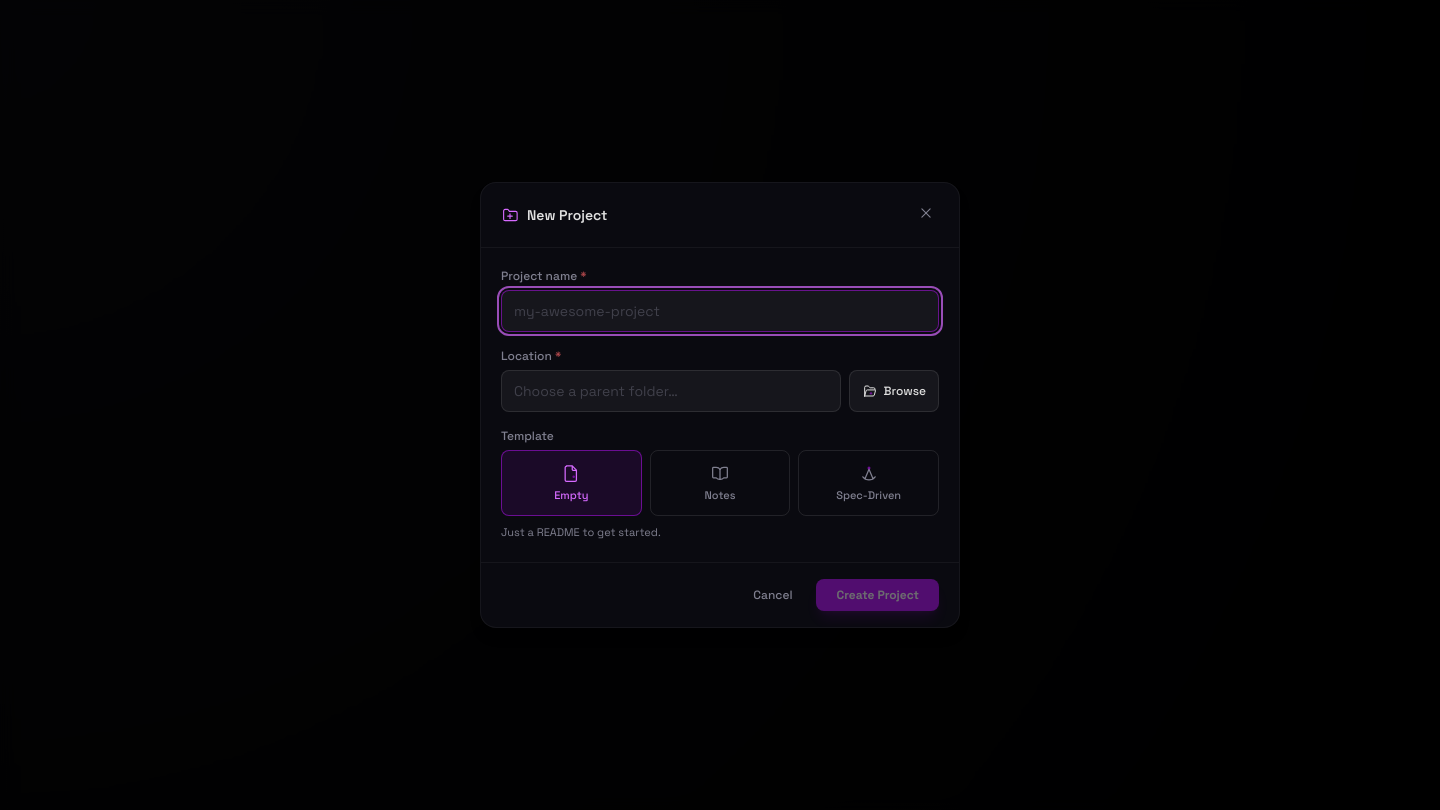
Test: NewProjectModal › disables Create until a name and location are set
Expected: the button "Create Project" is disabled, [816,579,939,611]
Type "app" into the field with placeholder "my-awesome-project".
click(720, 311); type("app")  # box [501,290,939,332]
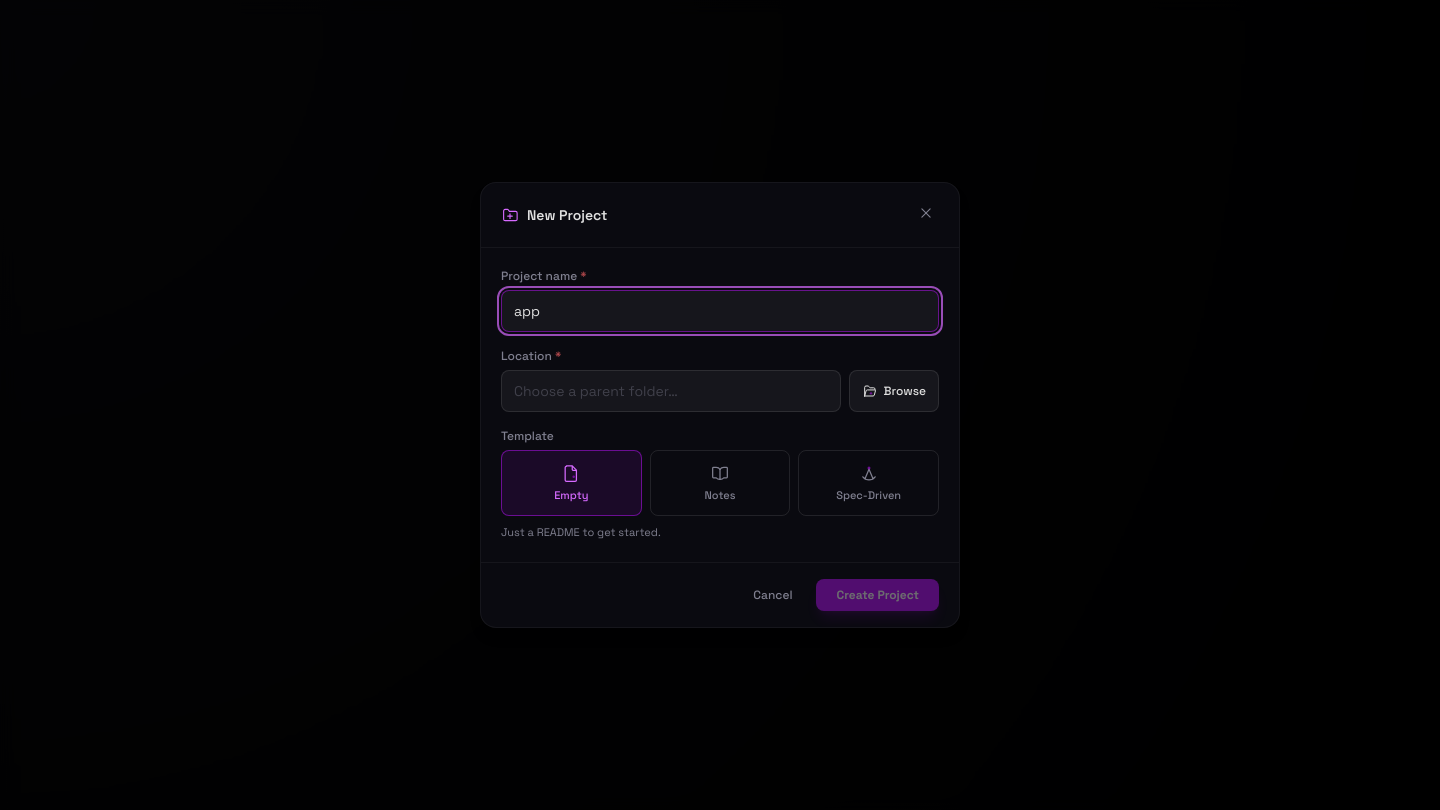
Expected: the button "Create Project" is disabled, [816,579,939,611]
Click the button "Browse".
click(894, 391)  # box [848,370,939,412]
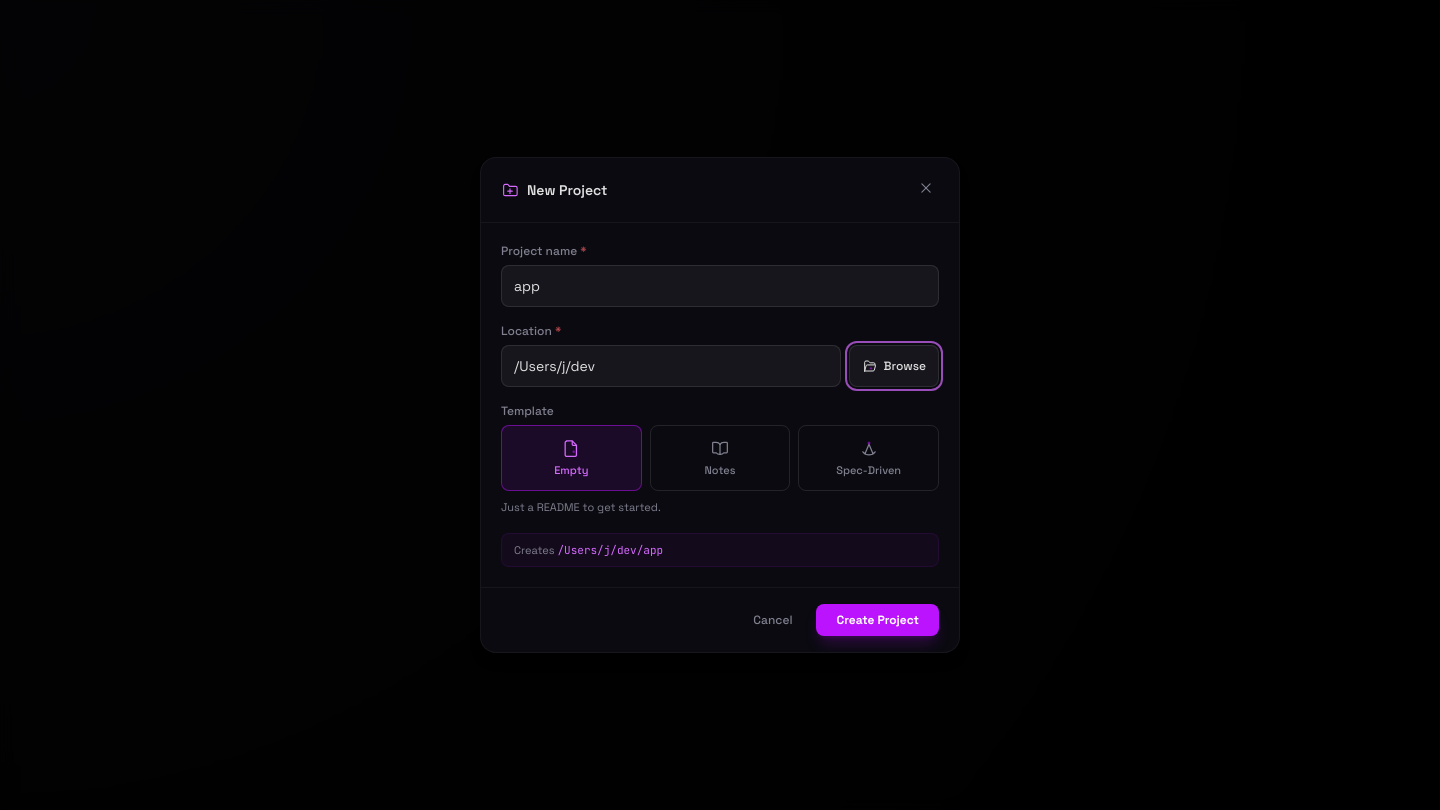
Expected: the button "Create Project" is enabled, [816,604,939,636]
